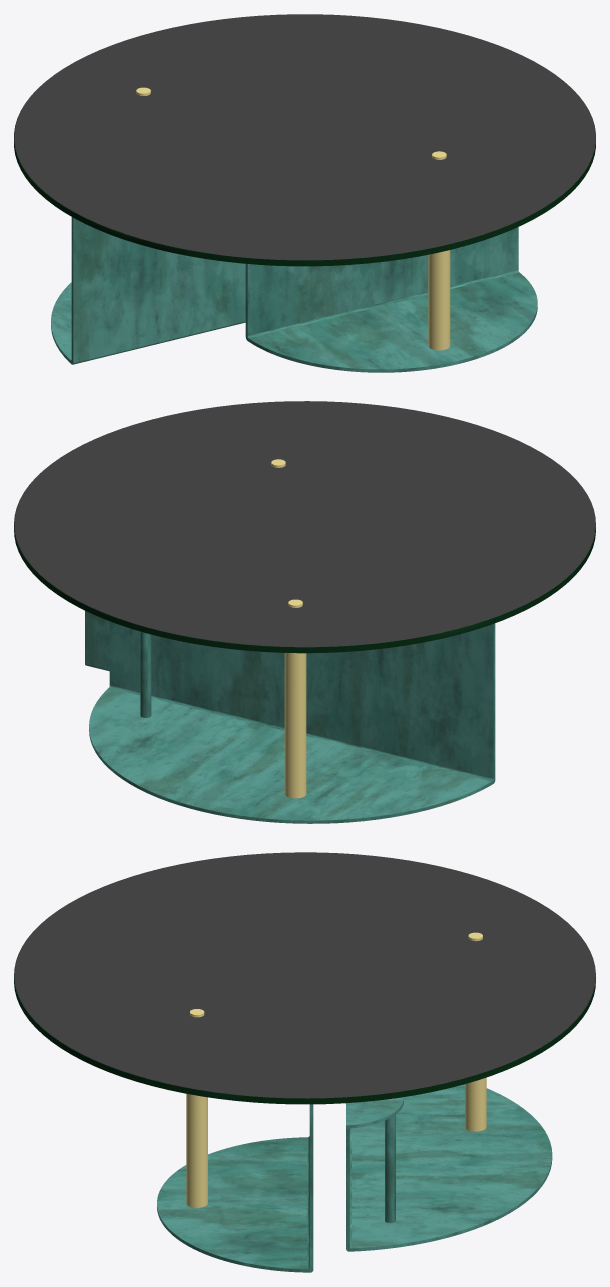
The model's file is tang_coffee_table.gltf.
The picture shows the model from 3 angles, top to bottom: view 1: azimuth 30°, elevation 25°; view 2: azimuth 150°, elevation 25°; view 3: azimuth 270°, elevation 25°; orthographic projection.
Parts seen in each view (by area): view 1: Mesh (×2); view 2: Mesh (×2); view 3: Mesh (×2).
Boxes of the visible parts, left/top/right/bottom form: Mesh (×2): left=14, top=14, right=595, bottom=372; Mesh (×2): left=14, top=401, right=595, bottom=823; Mesh (×2): left=14, top=852, right=595, bottom=1272.
Size of the model in its own units: 0.8 by 0.3 by 0.8.
2 materials, 2 textured.
